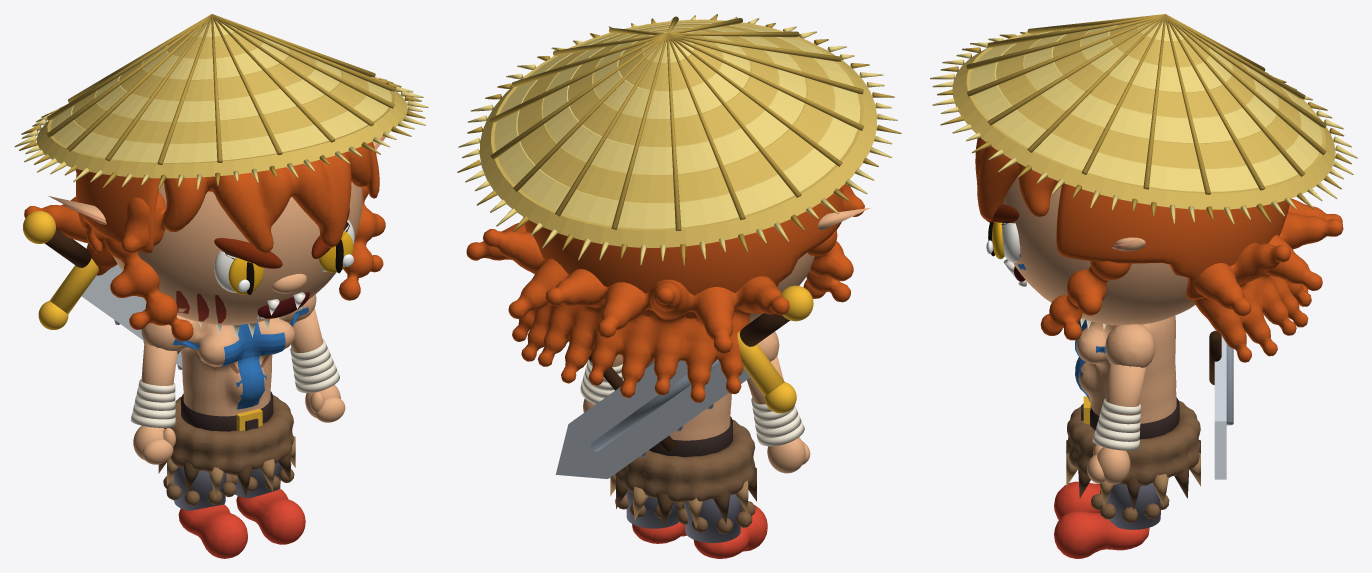
The model's file is iop-berserker-c.glb.
3 views of the same model, side by side, from view 1: azimuth 30°, elevation 25°; view 2: azimuth 150°, elevation 25°; view 3: azimuth 270°, elevation 25° (orthographic). The views are drawn at different scales.
Parts seen in each view (by area): view 1: meches, crane, cone, tunique, cone_bord, cone.001, favoris, pagne, cone.002, cheveux, cone.003, cone.004 (+38 smaller); view 2: meche_folle, cone, cone.001, cheveux, cone_bord, cone.002, lame, cone.003, pagne, cone.004, cone.005, favoris (+29 smaller); view 3: cheveux, meche_folle, cone, crane, cone.001, cone_bord, cone.002, tunique, cone.003, pagne, cone.004, meches (+26 smaller).
Part boxes in pixels (bbox=[...]): meches: bbox=[121, 146, 371, 253]; crane: bbox=[113, 182, 362, 325]; cone: bbox=[50, 69, 391, 162]; tunique: bbox=[141, 294, 316, 416]; cone_bord: bbox=[37, 77, 407, 178]; cone.001: bbox=[72, 70, 367, 143]; favoris: bbox=[105, 186, 385, 341]; pagne: bbox=[164, 395, 293, 475]; cone.002: bbox=[95, 59, 341, 122]; cheveux: bbox=[76, 142, 379, 253]; cone.003: bbox=[119, 48, 315, 100]; cone.004: bbox=[143, 37, 289, 79]; meche_folle: bbox=[466, 223, 789, 402]; cone: bbox=[494, 21, 860, 228]; cone.001: bbox=[517, 23, 834, 202]; cheveux: bbox=[523, 187, 843, 318]; cone_bord: bbox=[479, 19, 877, 247]; cone.002: bbox=[542, 25, 806, 174]; lame: bbox=[555, 360, 750, 478]; cone.003: bbox=[568, 28, 778, 146]; pagne: bbox=[615, 420, 755, 502]; cone.004: bbox=[593, 30, 750, 118]; cone.005: bbox=[618, 32, 722, 90]; favoris: bbox=[803, 230, 853, 302]; cheveux: bbox=[1056, 183, 1289, 300]; meche_folle: bbox=[1193, 198, 1343, 362]; cone: bbox=[970, 30, 1322, 191]; crane: bbox=[1003, 176, 1195, 325]; cone.001: bbox=[995, 27, 1301, 168]; cone_bord: bbox=[952, 33, 1335, 209]; cone.002: bbox=[1024, 26, 1278, 143]; tunique: bbox=[1076, 315, 1176, 423]; cone.003: bbox=[1052, 29, 1255, 117]; pagne: bbox=[1067, 401, 1200, 485]; cone.004: bbox=[1081, 25, 1232, 92]; meches: bbox=[975, 137, 1058, 220].
Size of the model in its own units: 2.5 by 3.35 by 2.46.
